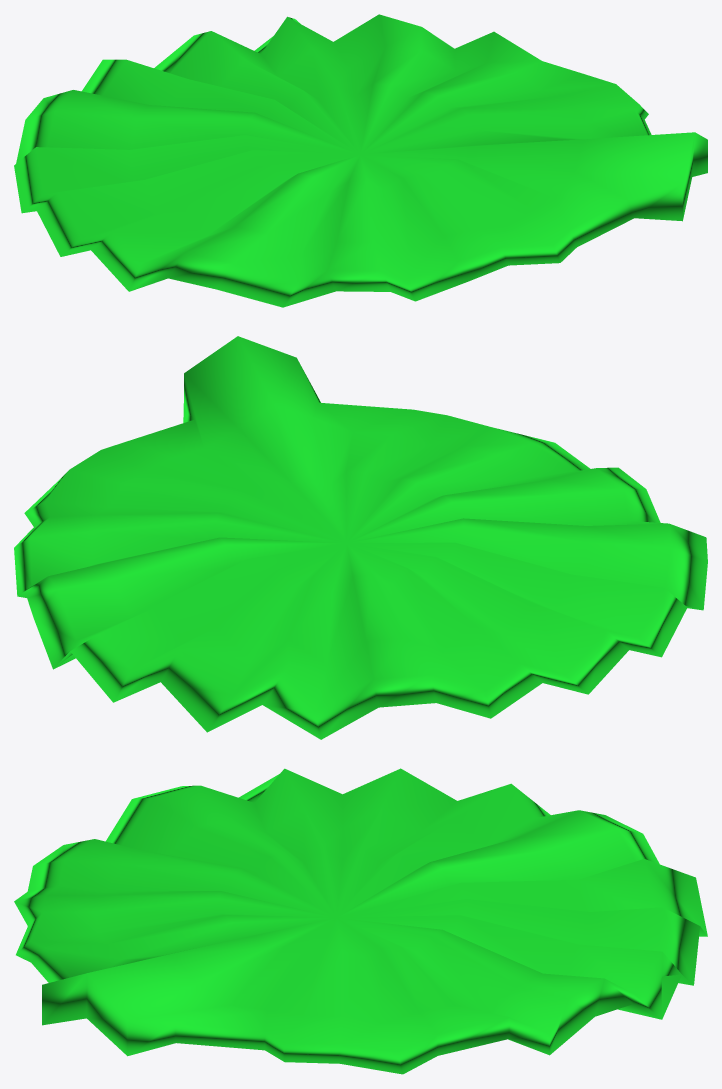
File: Lettuce.fbx
3 renders of one model, top to bottom at view 1: azimuth 30°, elevation 25°; view 2: azimuth 150°, elevation 25°; view 3: azimuth 270°, elevation 25°, orthographic. The views are drawn at different scales.
Visible parts, largest first — view 1: pCylinder1; view 2: pCylinder1; view 3: pCylinder1.
Boxes of the visible parts, box(x1,y1,x2,y2) form: pCylinder1: box(14, 14, 707, 307); pCylinder1: box(14, 336, 707, 739); pCylinder1: box(14, 768, 707, 1074).
Bounding box in the file's own units: 13.56 × 2.14 × 13.45.
